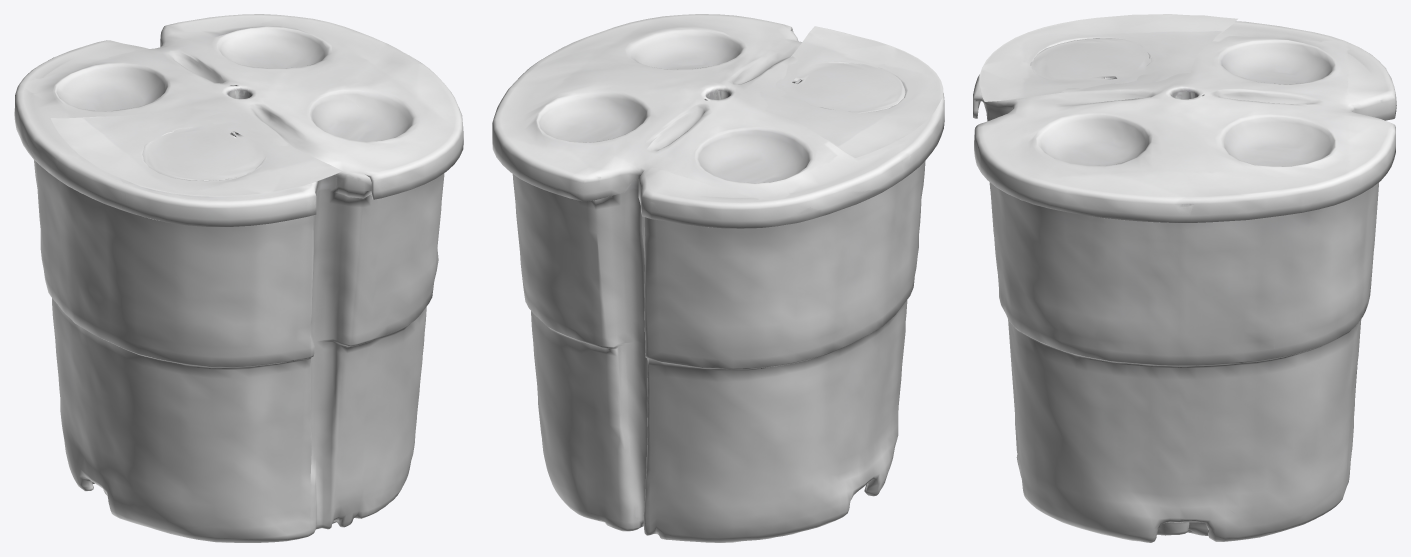
File: Giffy_Water_Ballast_0616015014_texture.glb
The picture shows the model from 3 angles, left to right: view 1: azimuth 30°, elevation 25°; view 2: azimuth 150°, elevation 25°; view 3: azimuth 270°, elevation 25°; orthographic projection.
Parts seen in each view (by area): view 1: Mesh_0; view 2: Mesh_0; view 3: Mesh_0.
Part boxes in pixels (x1=…): Mesh_0: x1=14, y1=14, x2=463, y2=542; Mesh_0: x1=492, y1=14, x2=944, y2=542; Mesh_0: x1=973, y1=14, x2=1396, y2=542.
Bounding box in the file's own units: 0.7683 × 0.762 × 0.7525.
1 material, 1 textured.
